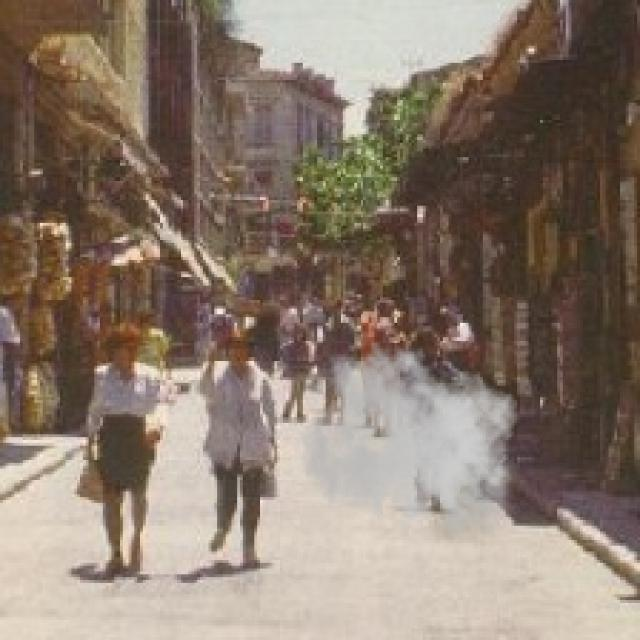smoke: (300, 340, 526, 549)
